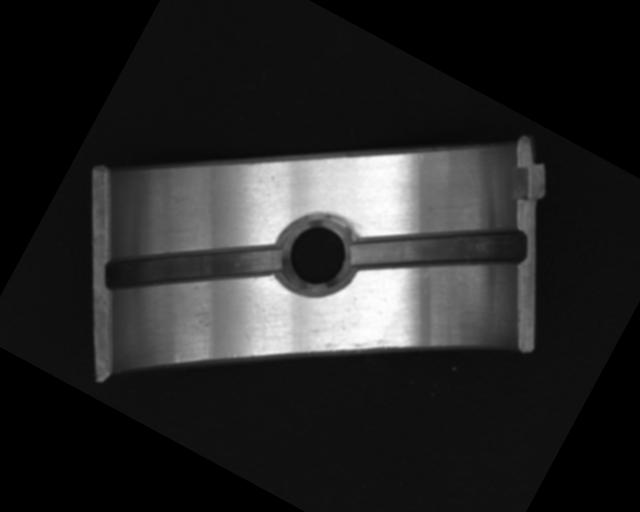gap: (98, 181, 290, 355), (346, 165, 533, 334)
hole: (266, 204, 367, 306)
